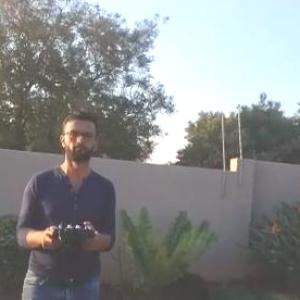follow: (11, 112, 121, 299)
